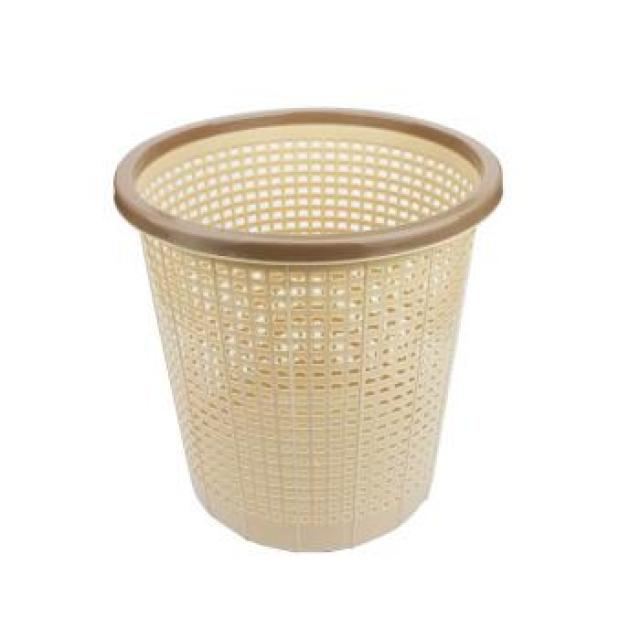dustbin: (109, 97, 508, 560)
